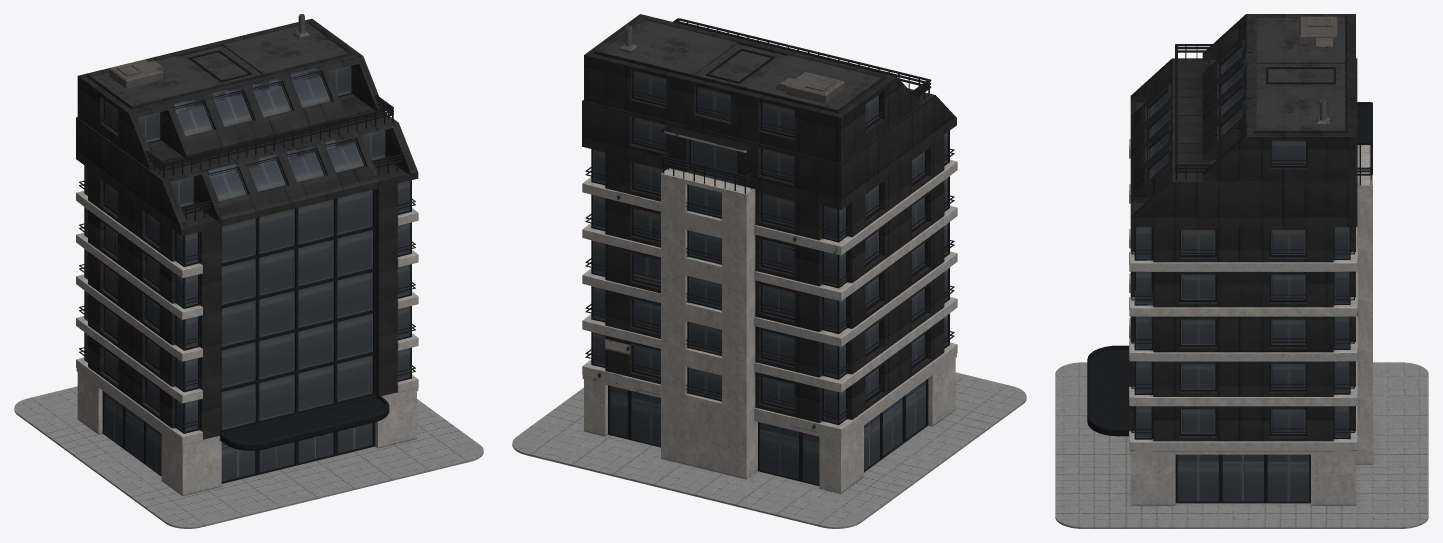
Rendered from bld22_06.glb.
3 views of the same model, side by side, from view 1: azimuth 30°, elevation 25°; view 2: azimuth 150°, elevation 25°; view 3: azimuth 270°, elevation 25° (orthographic). The views are drawn at different scales.
Parts seen in each view (by area): view 1: bld22_06; view 2: bld22_06; view 3: bld22_06.
Part boxes in pixels (x1=…): bld22_06: x1=14, y1=14, x2=483, y2=528; bld22_06: x1=512, y1=14, x2=1026, y2=528; bld22_06: x1=1055, y1=14, x2=1428, y2=528.
Size of the model in its own units: 49.72 by 55.28 by 47.6.
Materials: 1 (1 with a texture image).
